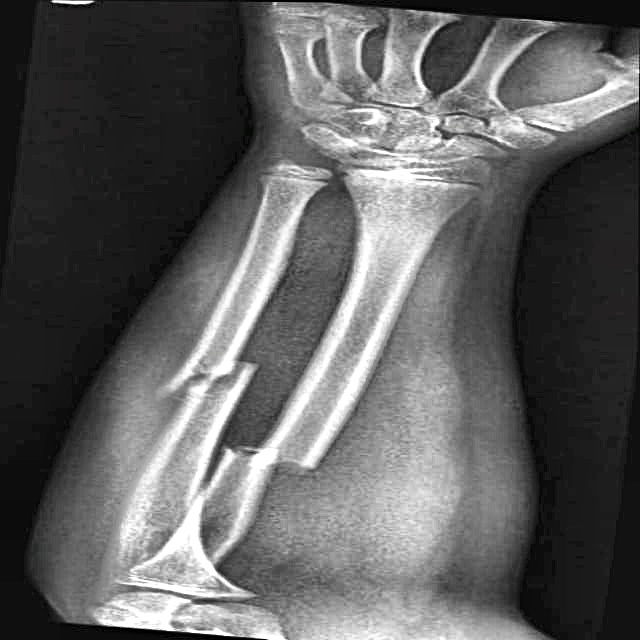Oblique Displaced: (127, 335, 287, 422)
Transverse: (194, 432, 354, 490)
